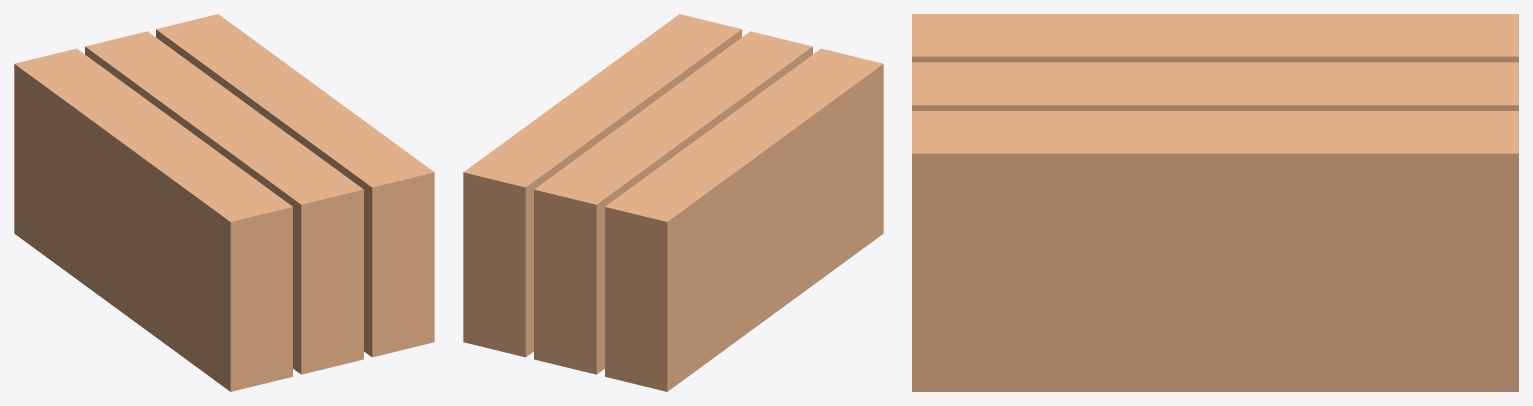
3 renders of one model, left to right at view 1: azimuth 30°, elevation 25°; view 2: azimuth 150°, elevation 25°; view 3: azimuth 270°, elevation 25°, orthographic. The views are drawn at different scales.
Visible parts, largest first — view 1: Timber.006, Timber.007, Timber.008, Timber.003, Timber, Timber.002, Timber.004, Timber.005, Timber.001; view 2: Timber.006, Timber.007, Timber.008, Timber.003, Timber, Timber.002, Timber.004, Timber.005, Timber.001; view 3: Timber.008, Timber.002, Timber.005, Timber.006, Timber.007.
Boxes of the visible parts, left/top/right/bottom form: Timber.006: left=14, top=48, right=292, bottom=278; Timber.007: left=85, top=31, right=363, bottom=261; Timber.008: left=156, top=14, right=434, bottom=243; Timber.003: left=14, top=120, right=292, bottom=335; Timber: left=14, top=177, right=292, bottom=391; Timber.002: left=364, top=285, right=434, bottom=357; Timber.004: left=293, top=246, right=363, bottom=317; Timber.005: left=364, top=229, right=434, bottom=300; Timber.001: left=293, top=303, right=363, bottom=374; Timber.006: left=605, top=48, right=883, bottom=278; Timber.007: left=534, top=31, right=812, bottom=261; Timber.008: left=463, top=14, right=741, bottom=243; Timber.003: left=605, top=120, right=883, bottom=335; Timber: left=605, top=177, right=883, bottom=391; Timber.002: left=463, top=285, right=533, bottom=357; Timber.004: left=534, top=246, right=604, bottom=317; Timber.005: left=463, top=229, right=533, bottom=300; Timber.001: left=534, top=303, right=604, bottom=374; Timber.008: left=912, top=111, right=1518, bottom=232; Timber.002: left=912, top=312, right=1518, bottom=391; Timber.005: left=912, top=233, right=1518, bottom=312; Timber.006: left=912, top=14, right=1518, bottom=62; Timber.007: left=912, top=62, right=1518, bottom=110.
Size of the model in its own units: 49 by 39 by 90.
